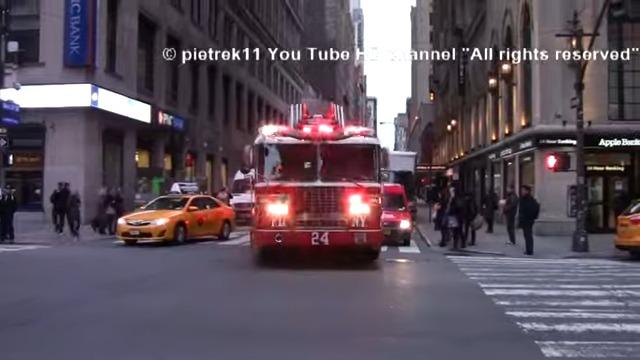Fire-engine: (240, 100, 384, 262)
